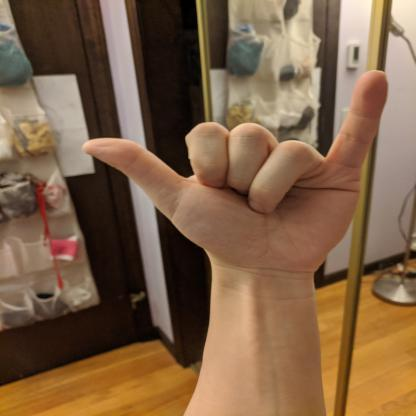Y: (77, 67, 392, 274)
